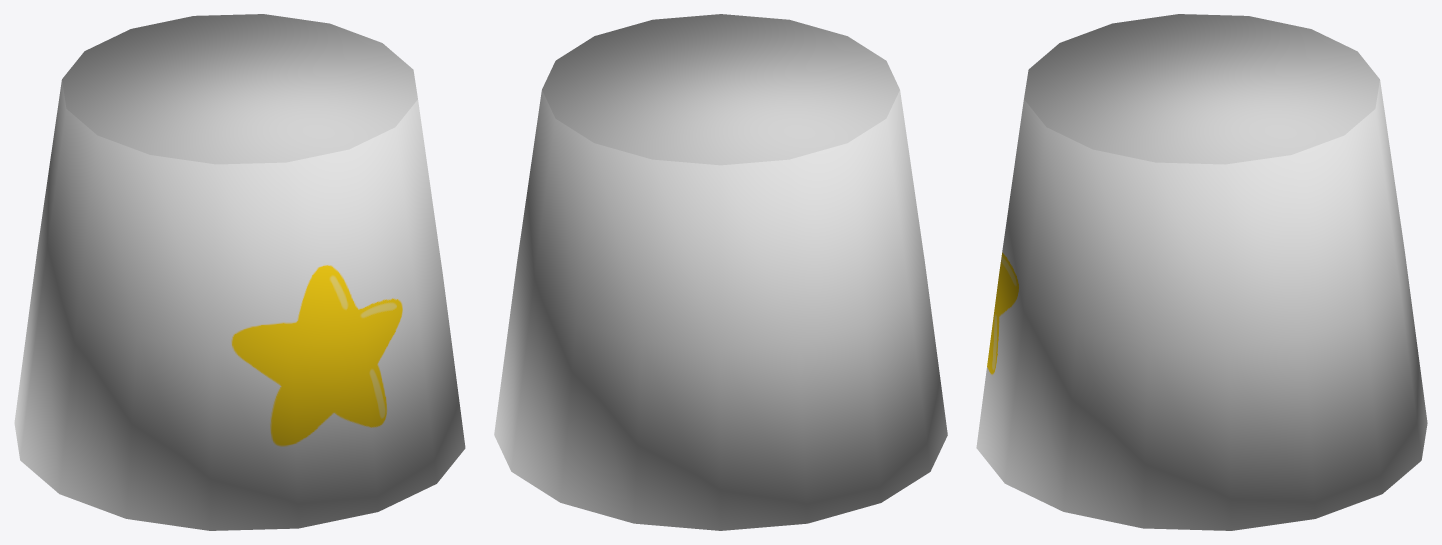
The model's file is Cup 1.fbx.
3 views of the same model, side by side, from view 1: azimuth 30°, elevation 25°; view 2: azimuth 150°, elevation 25°; view 3: azimuth 270°, elevation 25° (orthographic).
Parts seen in each view (by area): view 1: Cylinder; view 2: Cylinder; view 3: Cylinder.
Part boxes in pixels (bbox=[...]): Cylinder: bbox=[14, 14, 465, 530]; Cylinder: bbox=[494, 14, 947, 530]; Cylinder: bbox=[976, 14, 1427, 530].
Bounding box in the file's own units: 236 × 200 × 236.
Materials: 1 (1 with a texture image).
